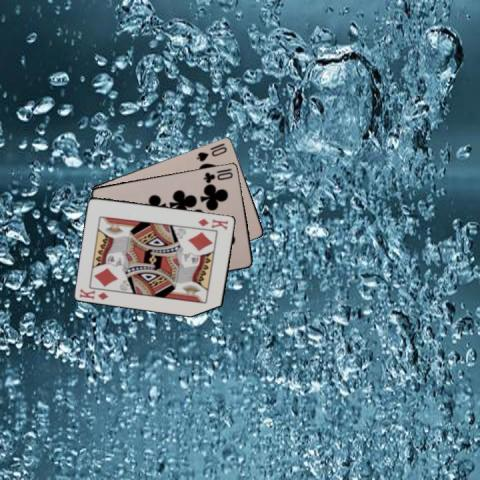10c: (200, 165, 234, 184)
10s: (194, 143, 229, 163)
Kd: (196, 216, 229, 232), (77, 286, 109, 302)
